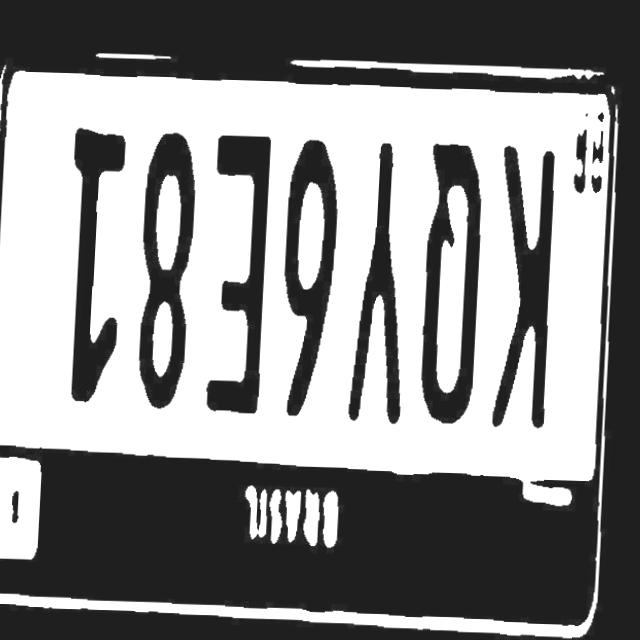1: (52, 113, 131, 420)
6: (277, 113, 350, 433)
8: (131, 111, 207, 419)
e: (199, 118, 281, 437)
k: (484, 134, 566, 436)
q: (410, 124, 491, 441)
y: (342, 150, 417, 429)
